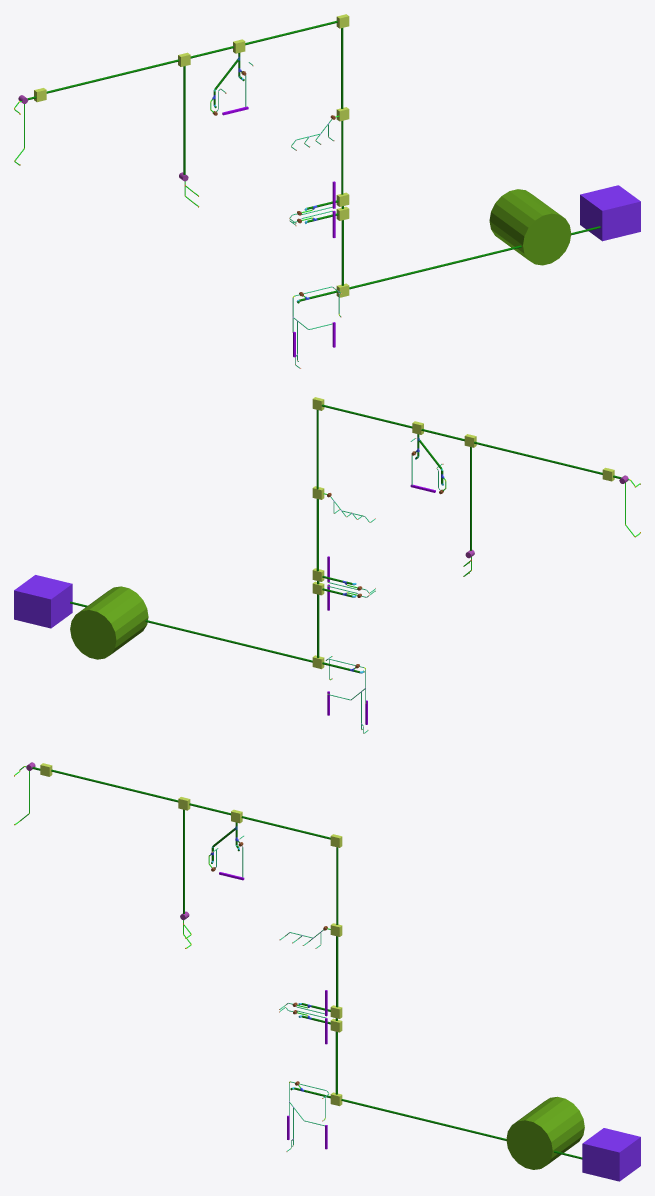
Rendered from sanitário.obj.
3 views of the same model, one above another, from view 1: azimuth 30°, elevation 25°; view 2: azimuth 150°, elevation 25°; view 3: azimuth 330°, elevation 25° (orthographic). The views are drawn at different scales.
Visible parts, largest first — view 1: Extrude, Extrude022, Pipe122, Pipe056; view 2: Extrude, Extrude022, Pipe122, Pipe056; view 3: Extrude, Extrude022.
Part boxes in pixels (x1,y1,x2,y2): Extrude: [489, 189, 571, 265]; Extrude022: [580, 185, 640, 241]; Pipe122: [349, 226, 600, 289]; Pipe056: [46, 46, 233, 93]; Extrude: [70, 586, 148, 659]; Extrude022: [14, 575, 72, 628]; Pipe122: [70, 601, 312, 662]; Pipe056: [421, 429, 602, 474]; Extrude: [506, 1096, 584, 1169]; Extrude022: [582, 1128, 640, 1181].
Bounding box in the file's own units: 32385 × 16688 × 3475.
